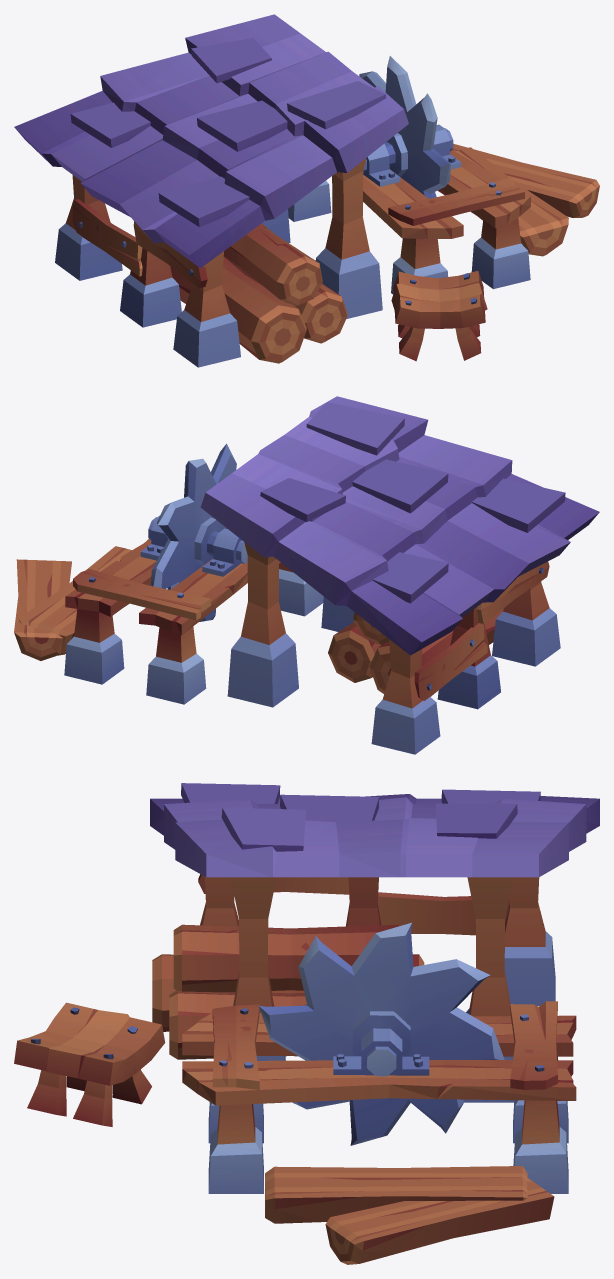
File: sawmill.glb
3 renders of one model, top to bottom at view 1: azimuth 30°, elevation 25°; view 2: azimuth 150°, elevation 25°; view 3: azimuth 270°, elevation 25°, orthographic. The views are drawn at different scales.
Visible parts, largest first — view 1: sawmill; view 2: sawmill; view 3: sawmill.
Part boxes in pixels (left/top/right/bottom): sawmill: left=14, top=14, right=599, bottom=367; sawmill: left=14, top=396, right=599, bottom=754; sawmill: left=14, top=783, right=599, bottom=1264.
Bounding box in the file's own units: 3.43 × 1.39 × 2.71.
1 material, 1 textured.
